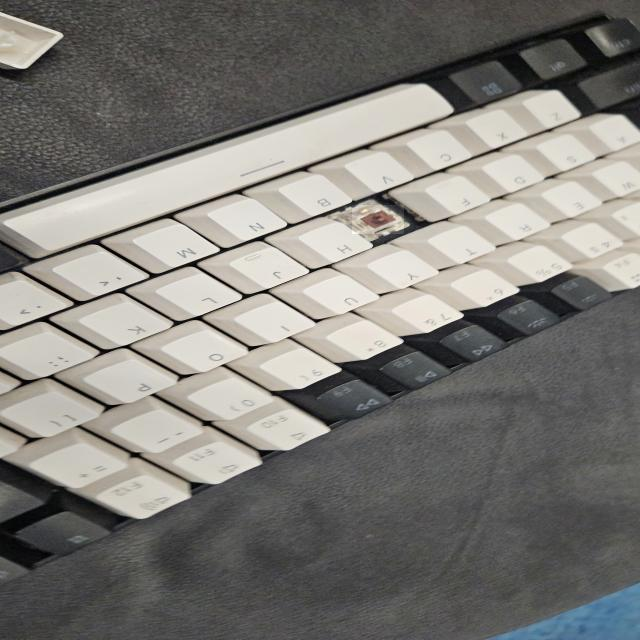C: (352, 205, 404, 234)
